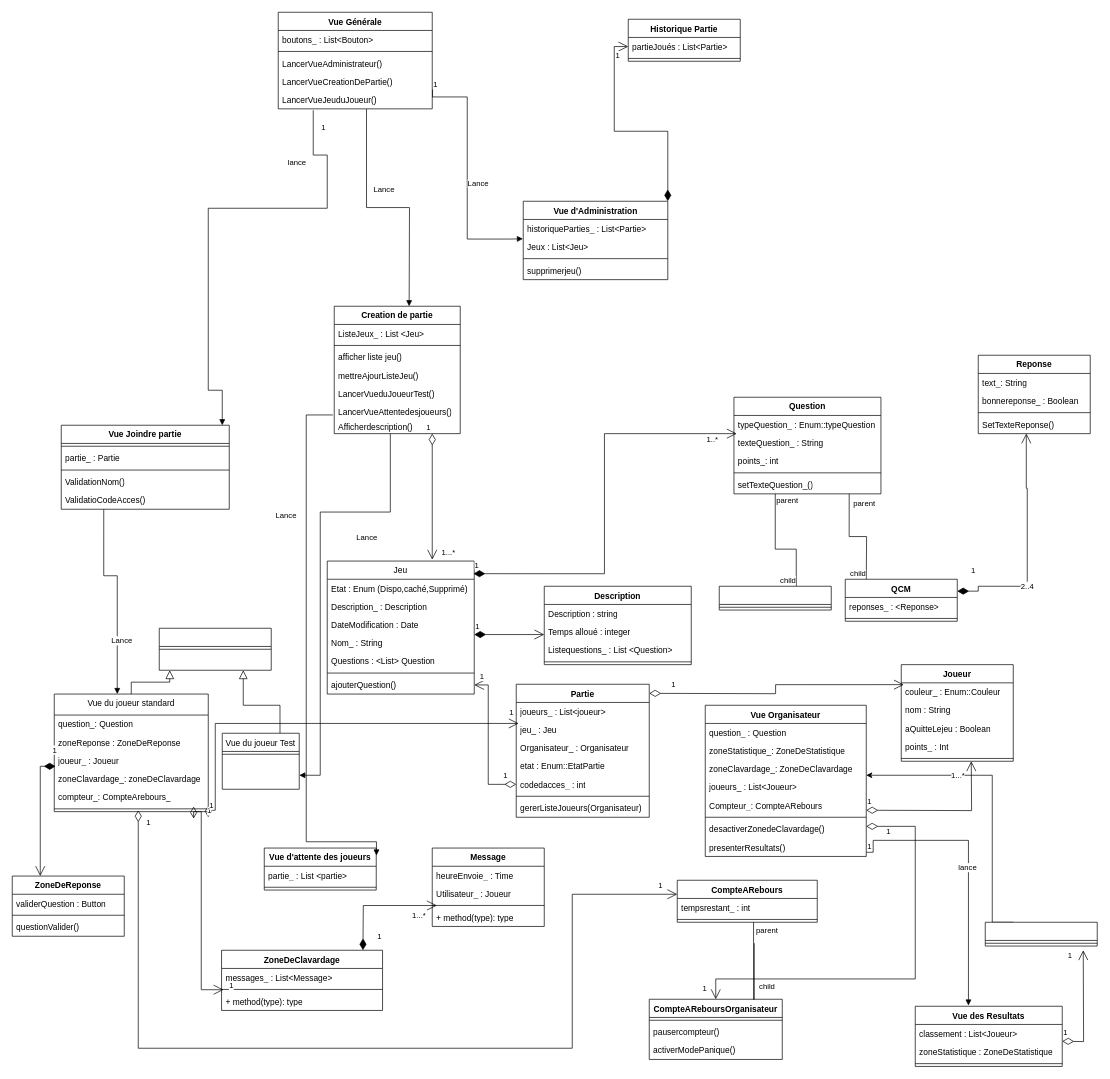
The diagram is 1110 pixels wide and 1079 high, and some of its shapes have lost their labels. Each missing label, with the centre of its shape:
"QRL" goes at point 775,598.
"Vue du joueur" goes at point 215,649.
"ZoneDeStatistique" goes at point 1041,934.
